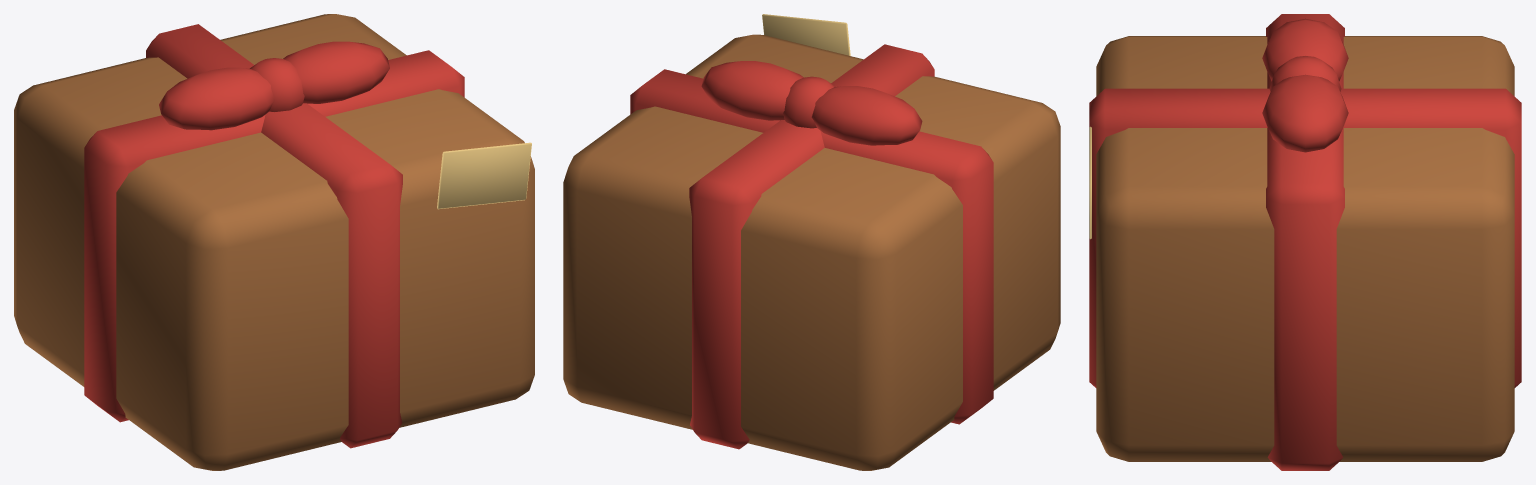
File: parcel.glb
3 views of the same model, side by side, from view 1: azimuth 30°, elevation 25°; view 2: azimuth 150°, elevation 25°; view 3: azimuth 270°, elevation 25° (orthographic). The views are drawn at different scales.
Parts seen in each view (by area): view 1: parcel; view 2: parcel; view 3: parcel.
Part boxes in pixels (x1,y1,x2,y2): parcel: (14,14,534,470); parcel: (563,14,1060,470); parcel: (1089,14,1521,470).
Bounding box in the file's own units: 0.6 × 0.5 × 0.6.
